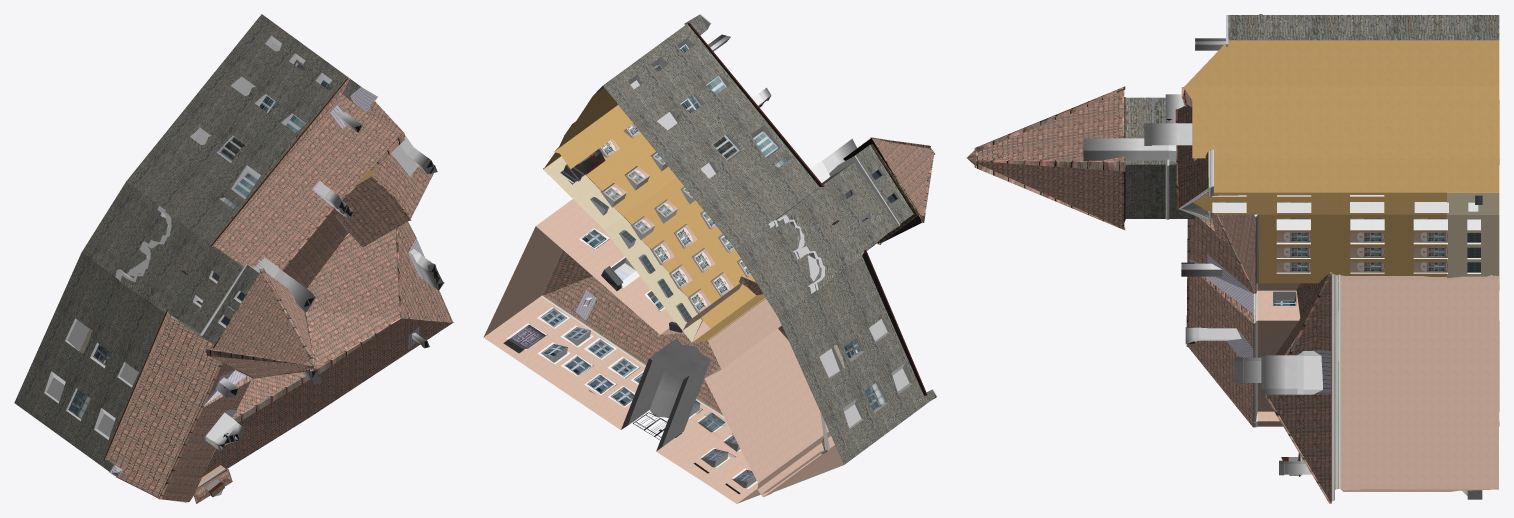
The model's file is Kooli_3-origo.obj.
The picture shows the model from 3 angles, left to right: view 1: azimuth 30°, elevation 25°; view 2: azimuth 150°, elevation 25°; view 3: azimuth 270°, elevation 25°; orthographic projection. The views are drawn at different scales.
Visible parts, largest first — view 1: Kooli_3; view 2: Kooli_3; view 3: Kooli_3.
Part boxes in pixels (bbox=[...]): Kooli_3: bbox=[14, 14, 454, 503]; Kooli_3: bbox=[483, 14, 937, 503]; Kooli_3: bbox=[967, 14, 1499, 503].
Size of the model in its own units: 29.5 by 30 by 26.43.
